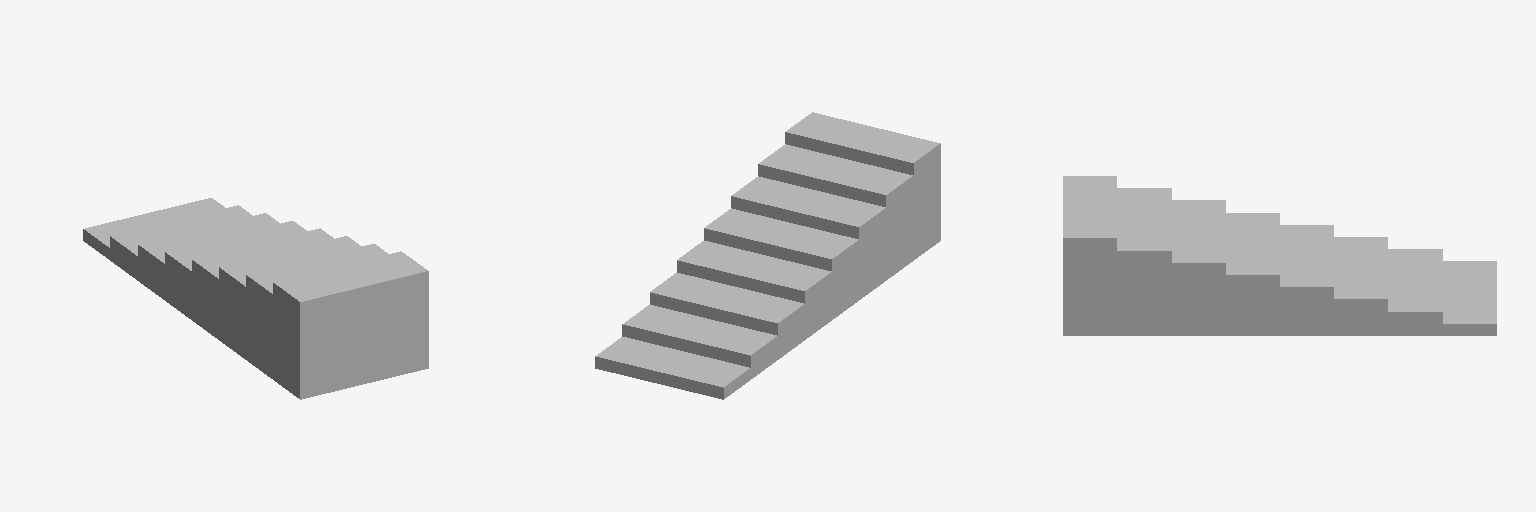
File: Stairs.obj
3 views of the same model, side by side, from view 1: azimuth 30°, elevation 25°; view 2: azimuth 150°, elevation 25°; view 3: azimuth 270°, elevation 25° (orthographic).
Parts seen in each view (by area): view 1: Stairs; view 2: Stairs; view 3: Stairs.
Part boxes in pixels (x1,y1,x2,y2): Stairs: (83,198,428,399); Stairs: (595,112,940,399); Stairs: (1063,176,1496,335).
Size of the model in its own units: 3.41 by 2.48 by 10.